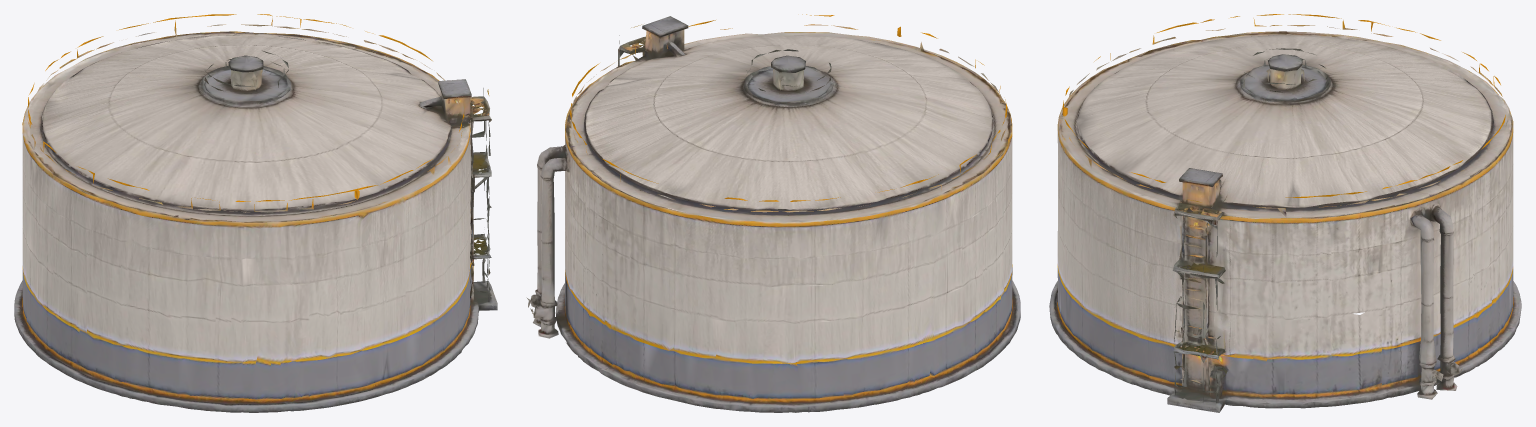
The model's file is floatTank.glb.
The picture shows the model from 3 angles, left to right: view 1: azimuth 30°, elevation 25°; view 2: azimuth 150°, elevation 25°; view 3: azimuth 270°, elevation 25°; orthographic projection.
Visible parts, largest first — view 1: floatTank; view 2: floatTank; view 3: floatTank.
Part boxes in pixels (<box>): floatTank: <box>14,14,497,412</box>; floatTank: <box>526,14,1020,412</box>; floatTank: <box>1049,14,1521,412</box>.
Size of the model in its own units: 28.96 by 17.26 by 29.
Materials: 1 (1 with a texture image).
